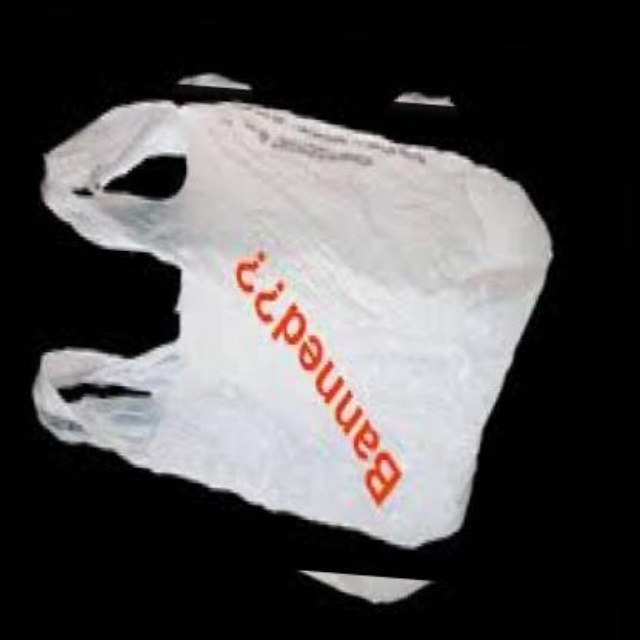trash: (34, 102, 549, 546)
